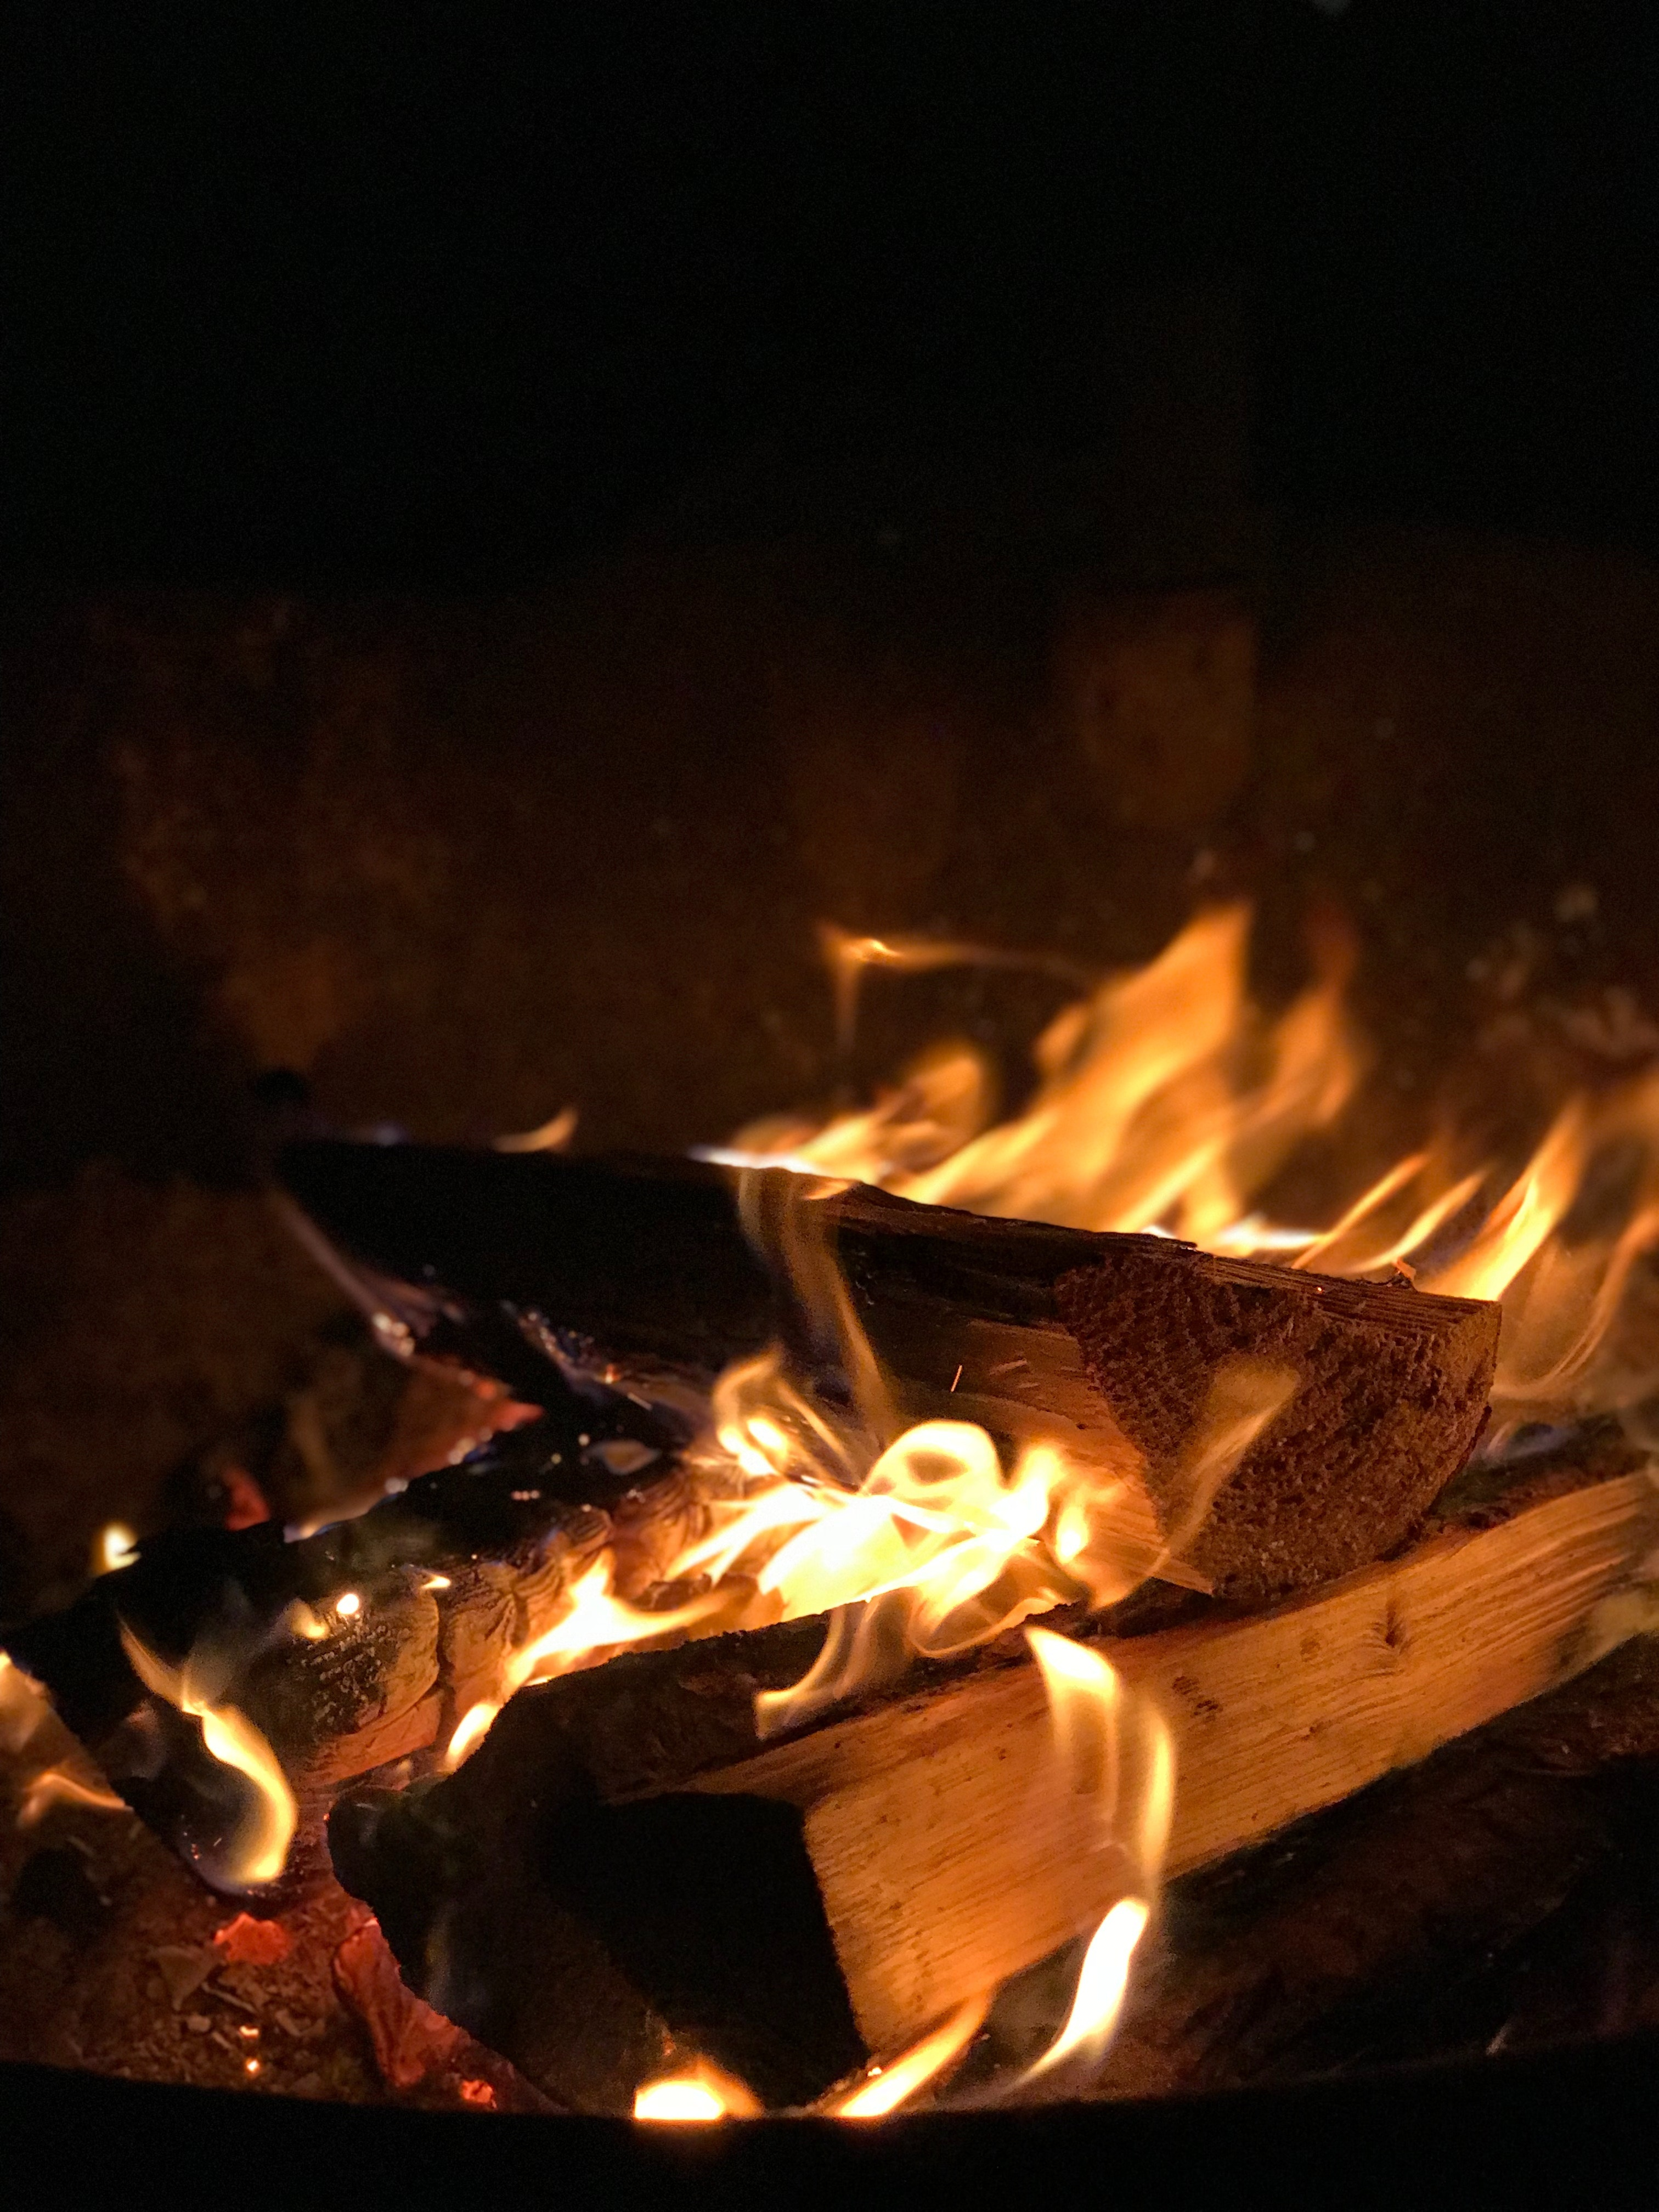fire: (627, 2050, 758, 2125)
